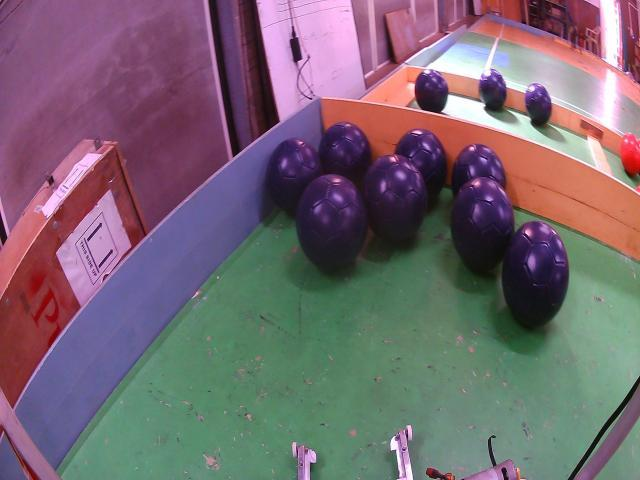kaalyya: (502, 220, 569, 327), (296, 175, 368, 270), (451, 177, 515, 272), (364, 155, 428, 242), (268, 138, 322, 213), (395, 128, 448, 200), (319, 122, 371, 187), (451, 143, 506, 196), (415, 70, 449, 113), (479, 68, 506, 110), (525, 83, 551, 125)
